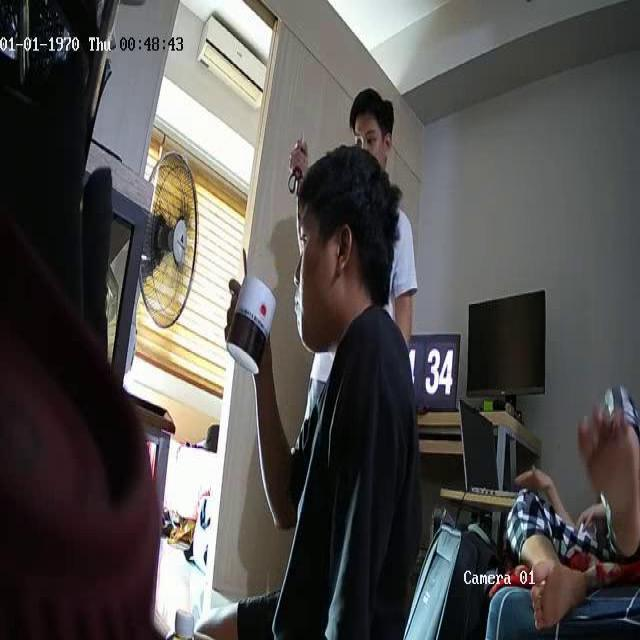scissor: (289, 136, 305, 193)
